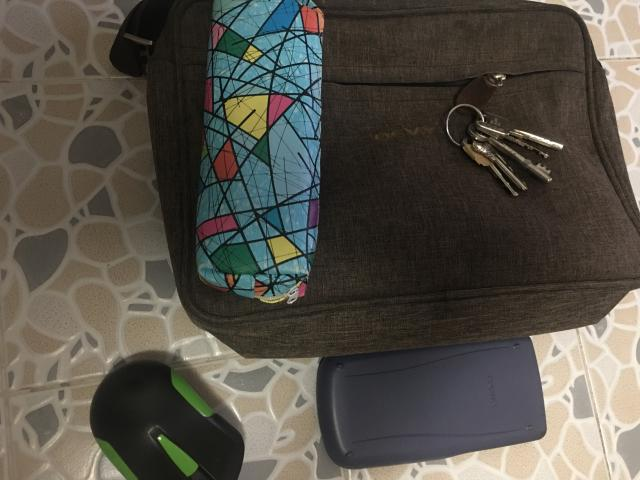Keys: (446, 102, 562, 196)
Mouse: (90, 360, 244, 479)
